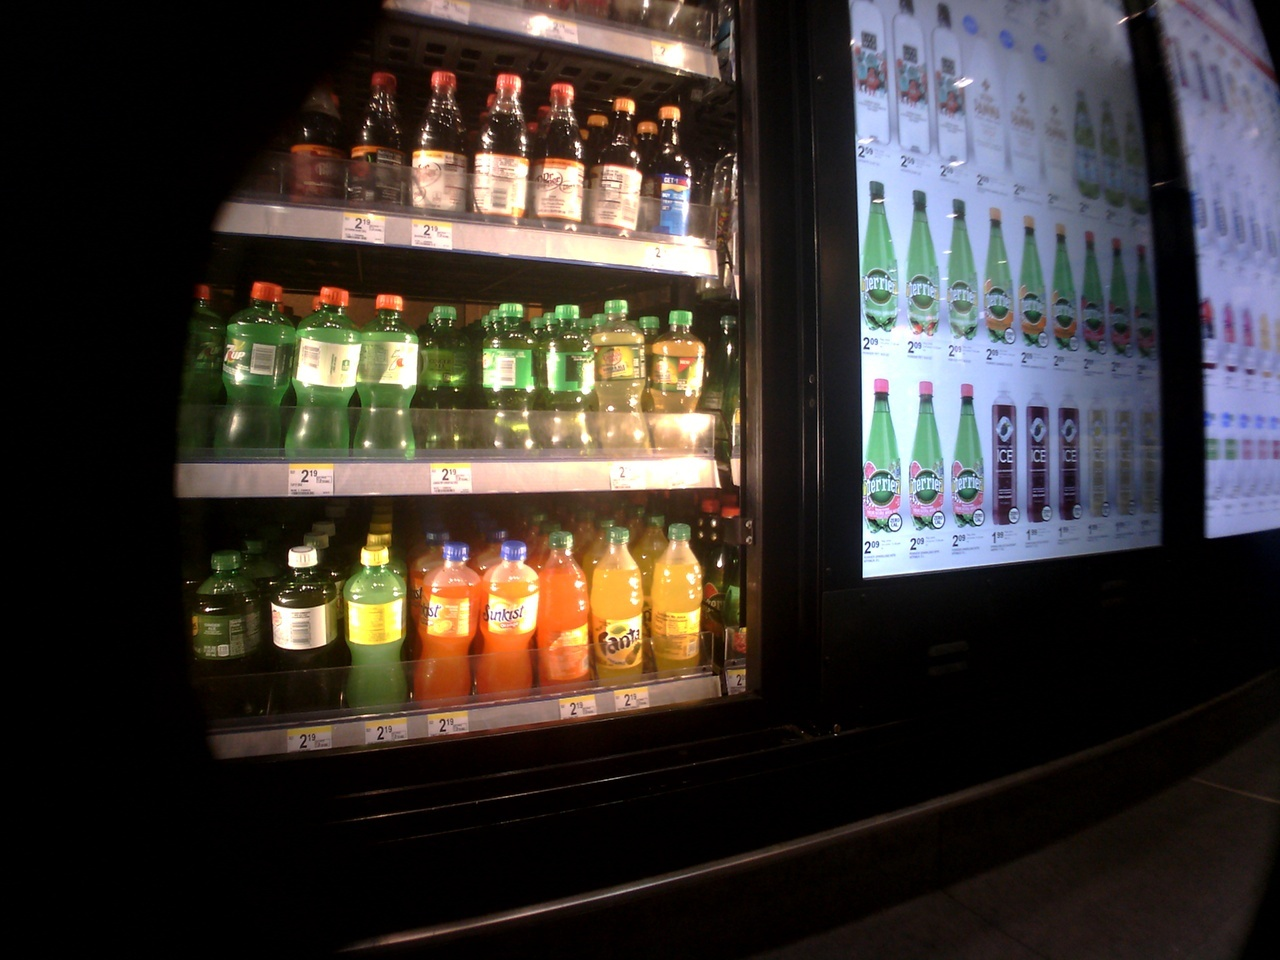shelf: (202, 12, 710, 289), (174, 498, 751, 734), (165, 267, 716, 505)
